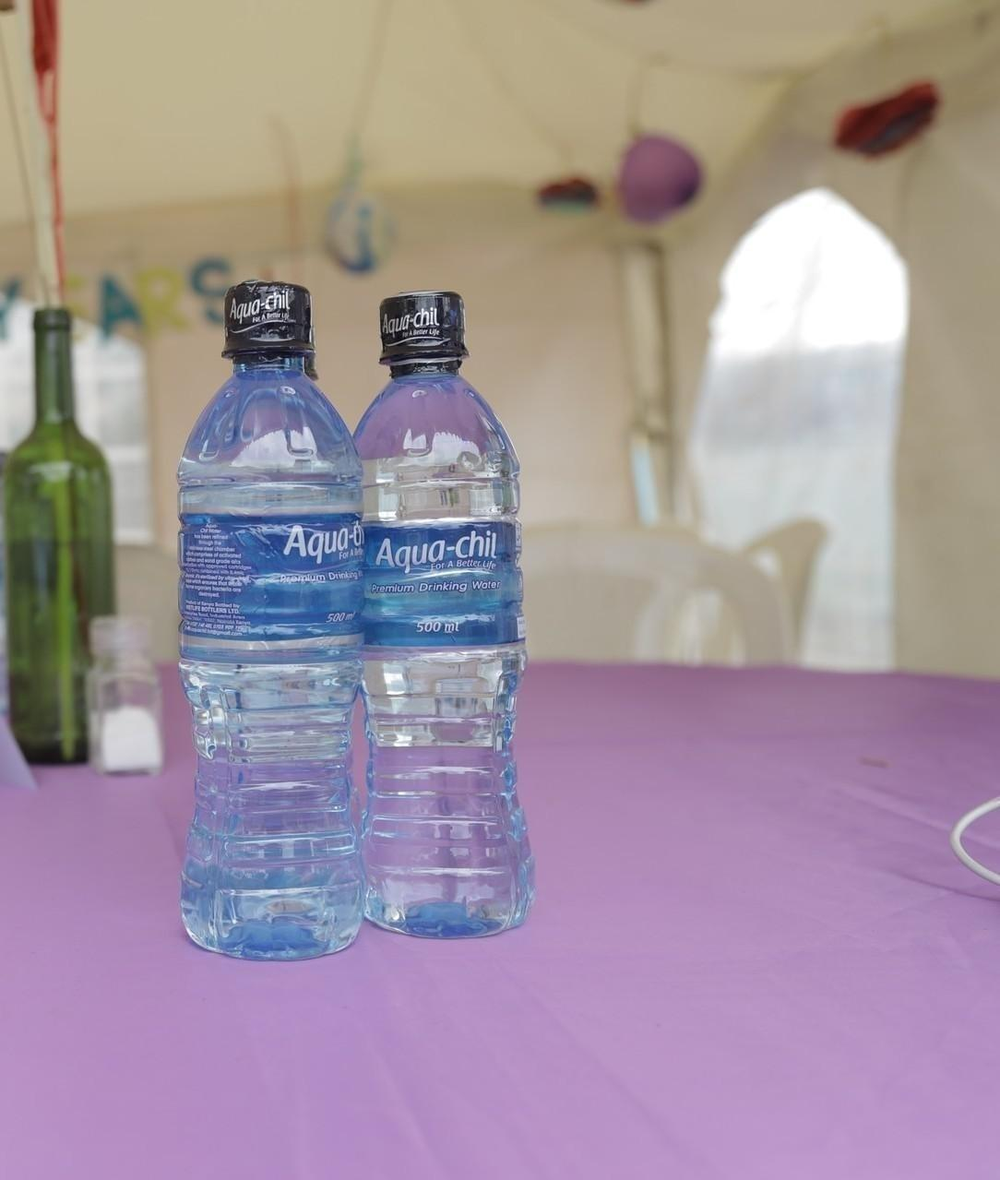bottle-glass: (1, 305, 117, 761)
bottle-plastic: (177, 279, 367, 960), (347, 290, 535, 944)
